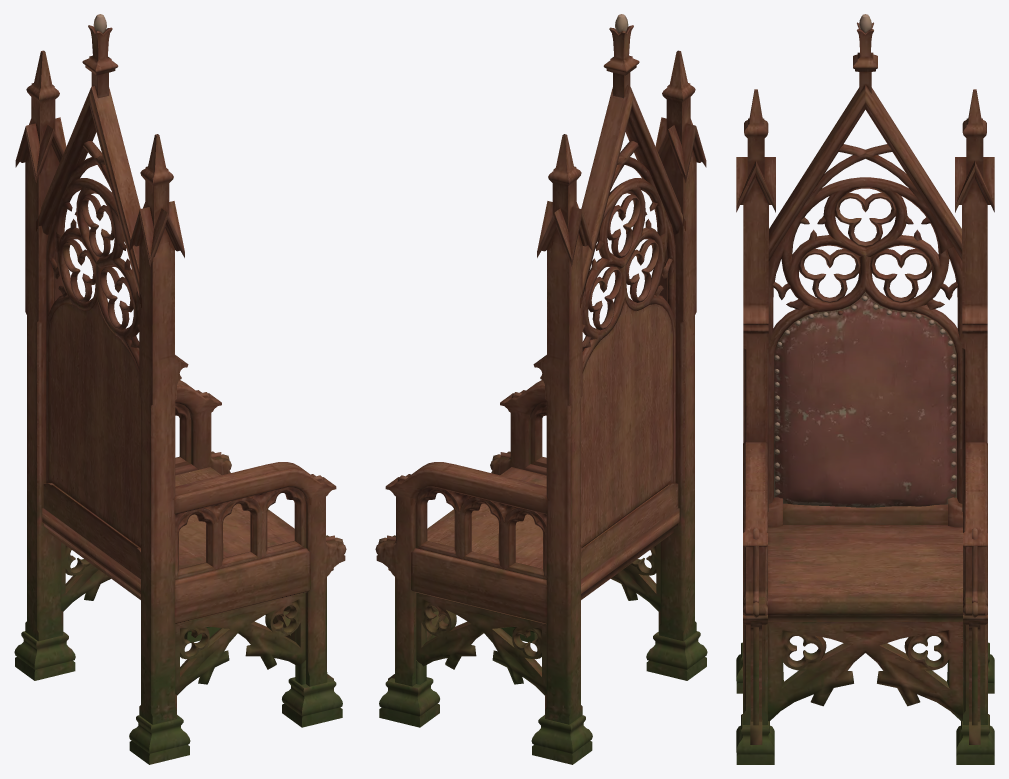
3 views of the same model, side by side, from view 1: azimuth 30°, elevation 25°; view 2: azimuth 150°, elevation 25°; view 3: azimuth 270°, elevation 25° (orthographic). The views are drawn at different scales.
Parts seen in each view (by area): view 1: SM_GothicChair01_LOD0; view 2: SM_GothicChair01_LOD0; view 3: SM_GothicChair01_LOD0.
Boxes of the visible parts, x1=… form: SM_GothicChair01_LOD0: x1=14, y1=14, x2=346, y2=764; SM_GothicChair01_LOD0: x1=375, y1=14, x2=707, y2=764; SM_GothicChair01_LOD0: x1=736, y1=14, x2=994, y2=764.
Bounding box in the file's own units: 0.7598 × 2.47 × 0.8654.
Materials: 1 (1 with a texture image).
